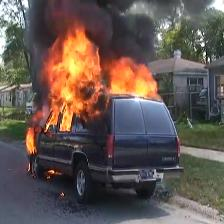fire: (39, 27, 165, 125), (25, 125, 41, 157)
smoke: (31, 0, 157, 27)
